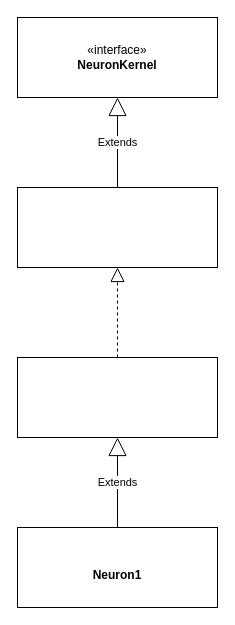
Some shapes in this 235 by 625 pixel diagram are drawn without their labels. The centre of each missing label's shape, as x and y in pixels:
"«Abstract Class» NeuronSecondary" belongs at point 117,397.
"«interface» Neuron" belongs at point 117,227.
